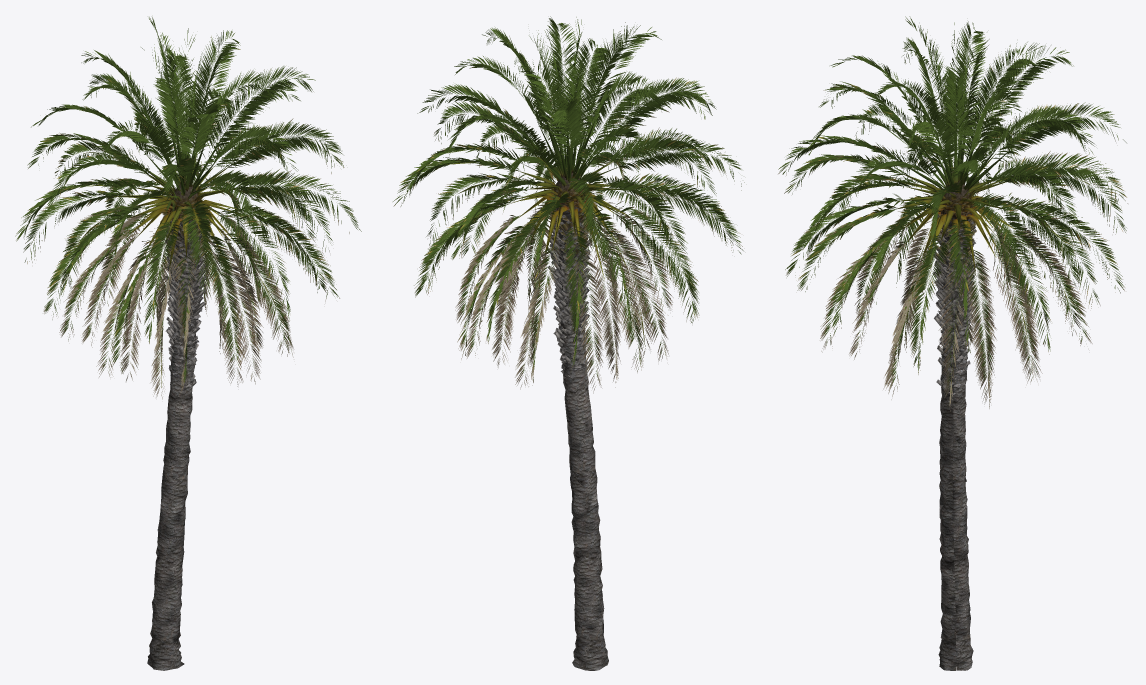
Rendered from palm_date_b.glb.
The picture shows the model from 3 angles, left to right: view 1: azimuth 30°, elevation 25°; view 2: azimuth 150°, elevation 25°; view 3: azimuth 270°, elevation 25°; orthographic projection. The views are drawn at different scales.
Visible parts, largest first — view 1: Phoenix_canariensis_HD_Phoenix crownshaft RT_0; view 2: Phoenix_canariensis_HD_Phoenix crownshaft RT_0; view 3: Phoenix_canariensis_HD_Phoenix crownshaft RT_0.
Boxes of the visible parts, x1,y1,x2,y2 form: Phoenix_canariensis_HD_Phoenix crownshaft RT_0: (15,17,361,670); Phoenix_canariensis_HD_Phoenix crownshaft RT_0: (393,16,744,670); Phoenix_canariensis_HD_Phoenix crownshaft RT_0: (778,16,1127,670).
Size of the model in its own units: 7.72 by 15.62 by 7.77.
20 materials, 20 textured.
